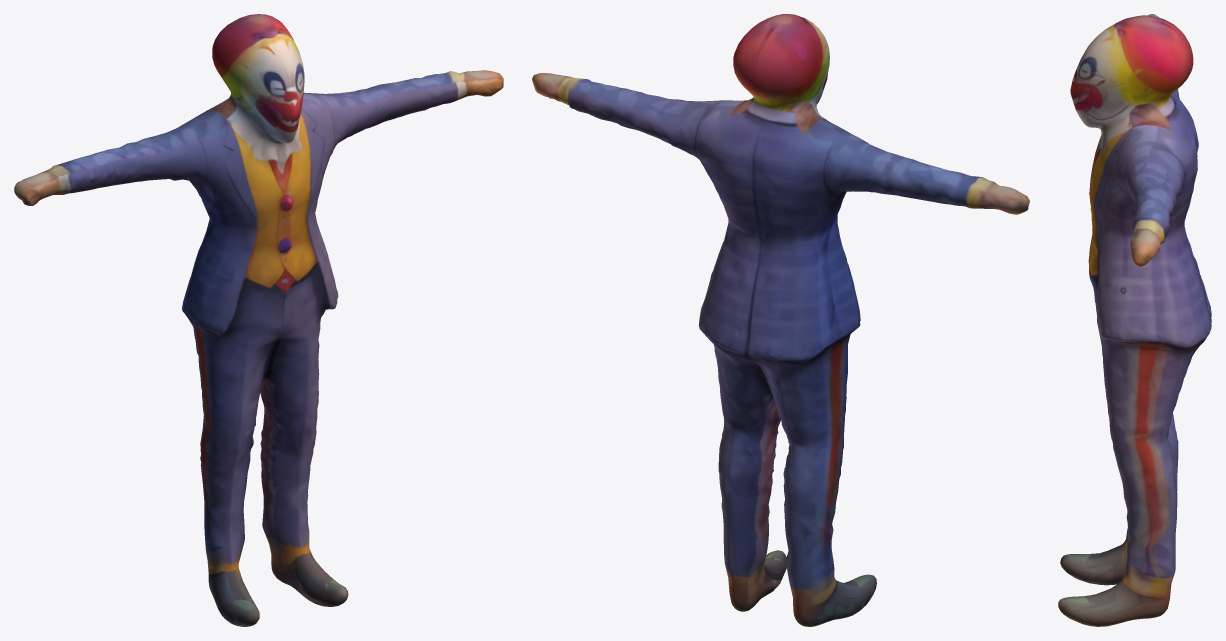
The model's file is low_poly_heist_member_1004160715_refine.fbx.
3 views of the same model, side by side, from view 1: azimuth 30°, elevation 25°; view 2: azimuth 150°, elevation 25°; view 3: azimuth 270°, elevation 25° (orthographic). The views are drawn at different scales.
Visible parts, largest first — view 1: Mesh_0; view 2: Mesh_0; view 3: Mesh_0.
Boxes of the visible parts, x1,y1,x2,y2 form: Mesh_0: [14, 14, 503, 626]; Mesh_0: [532, 14, 1029, 626]; Mesh_0: [1058, 14, 1211, 626].
Size of the model in its own units: 105 by 120 by 28.5.
1 material, 1 textured.
